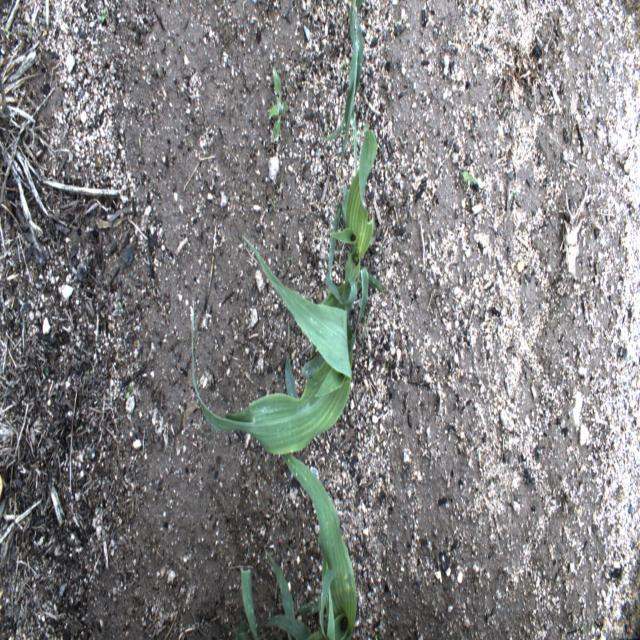crop: (188, 235, 353, 453), (265, 453, 356, 638), (321, 127, 384, 351), (327, 1, 364, 180), (240, 566, 260, 637)
weed: (268, 64, 290, 143), (266, 183, 278, 210), (461, 169, 478, 188), (234, 622, 249, 638), (359, 122, 368, 139), (125, 380, 132, 400), (99, 6, 106, 24), (28, 19, 33, 41), (5, 26, 10, 38), (77, 424, 83, 431)
